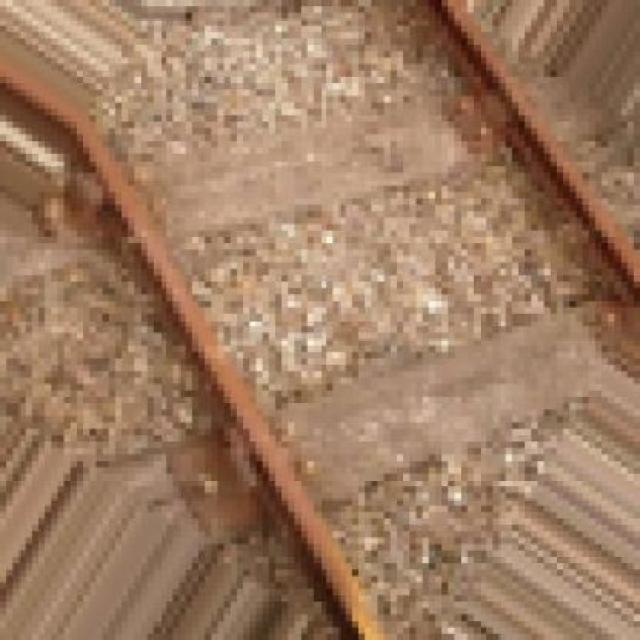defective: (0, 18, 449, 640)
